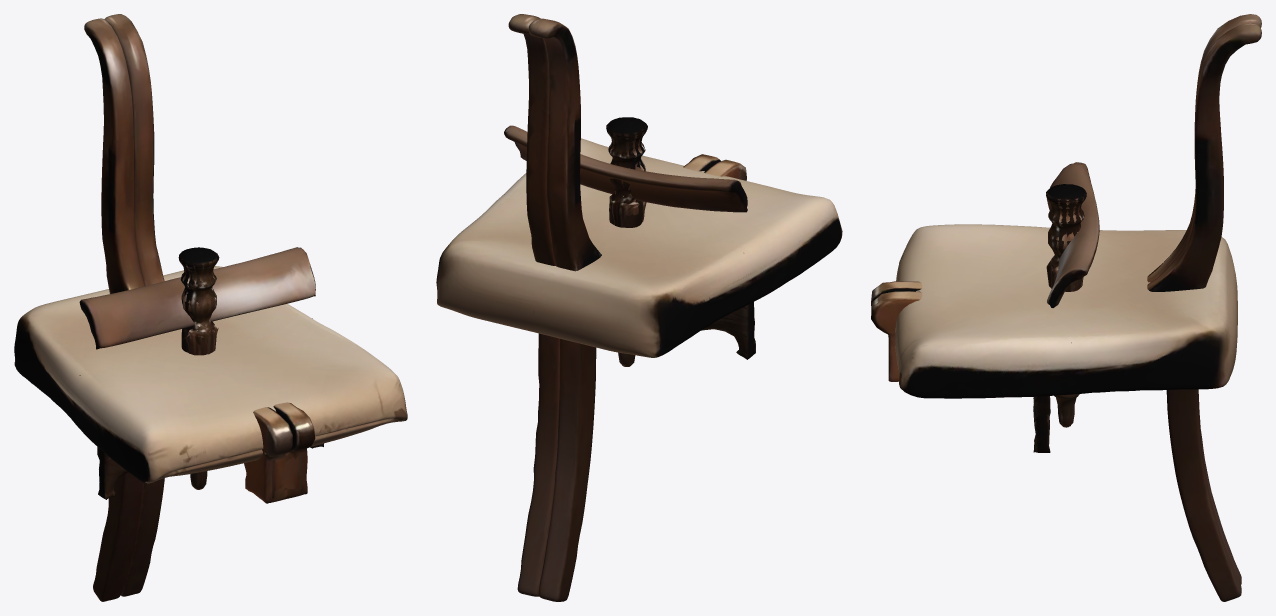
3 views of the same model, side by side, from view 1: azimuth 30°, elevation 25°; view 2: azimuth 150°, elevation 25°; view 3: azimuth 270°, elevation 25° (orthographic). The views are drawn at different scales.
Visible parts, largest first — view 1: root.0, root.2, root.1, root.3, root.5, root.6; view 2: root.0, root.2, root.1, root.3, root.5, root.6; view 3: root.0, root.1, root.3, root.2, root.6, root.5.
Boxes of the visible parts, x1,y1,x2,y2 form: root.0: [14, 266, 407, 483]; root.2: [84, 18, 315, 601]; root.1: [104, 14, 301, 596]; root.3: [79, 247, 323, 499]; root.5: [179, 247, 218, 489]; root.6: [178, 247, 219, 489]; root.0: [436, 138, 842, 357]; root.2: [528, 18, 720, 601]; root.1: [508, 14, 746, 596]; root.3: [504, 125, 755, 359]; root.5: [606, 117, 647, 366]; root.6: [606, 117, 647, 366]; root.0: [895, 224, 1237, 398]; root.1: [871, 23, 1261, 601]; root.3: [1033, 162, 1099, 452]; root.2: [871, 14, 1261, 584]; root.6: [1046, 186, 1086, 427]; root.5: [1046, 184, 1086, 426].
Bounding box in the file's own units: 20628 × 42953 × 26608.
1 material, 1 textured.
